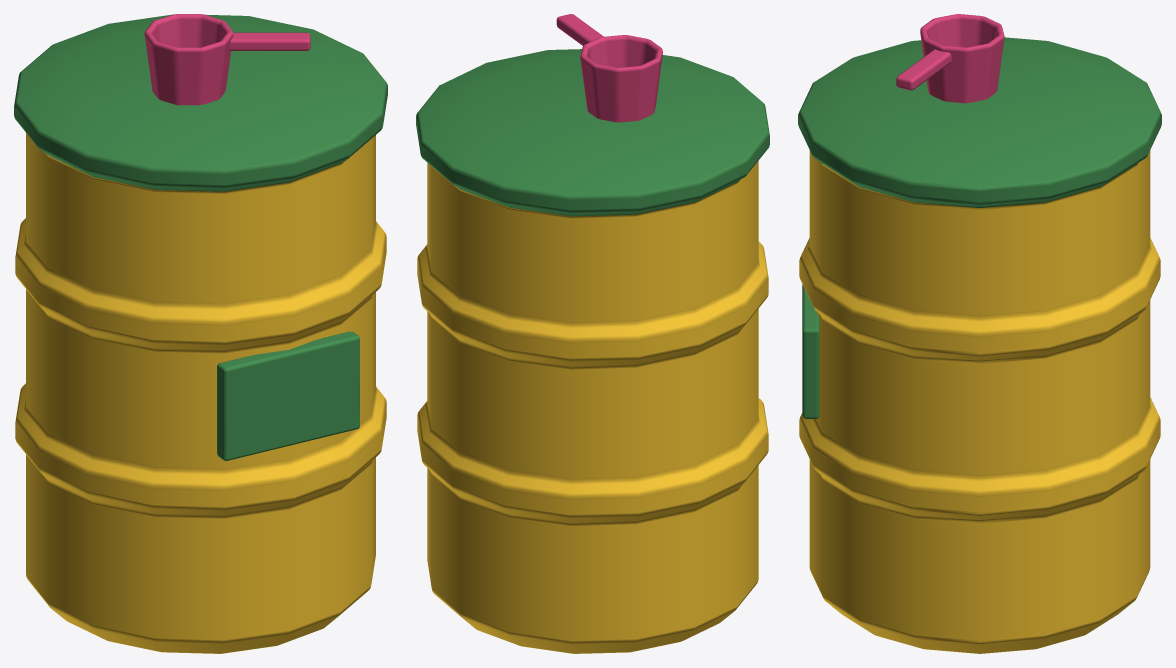
Rendered from prop_water_drum_yellow.glb.
3 renders of one model, left to right at view 1: azimuth 30°, elevation 25°; view 2: azimuth 150°, elevation 25°; view 3: azimuth 270°, elevation 25°, orthographic. The views are drawn at different scales.
Parts seen in each view (by area): view 1: prop_water_drum_yellow; view 2: prop_water_drum_yellow; view 3: prop_water_drum_yellow.
Boxes of the visible parts, <box> form: prop_water_drum_yellow: <box>14,14,387,653</box>; prop_water_drum_yellow: <box>416,14,769,653</box>; prop_water_drum_yellow: <box>798,14,1161,653</box>.
Bounding box in the file's own units: 0.62 × 1.04 × 0.62.
